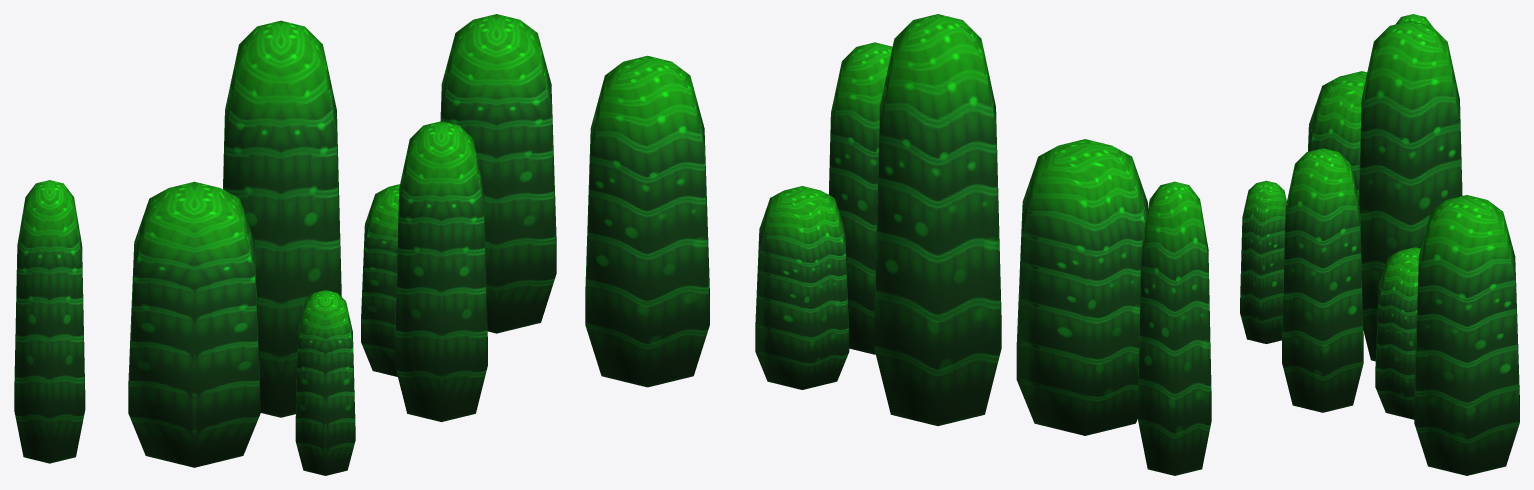
Rendered from Coral_15c.FBX.
The picture shows the model from 3 angles, left to right: view 1: azimuth 30°, elevation 25°; view 2: azimuth 150°, elevation 25°; view 3: azimuth 270°, elevation 25°; orthographic projection. The views are drawn at different scales.
Parts seen in each view (by area): view 1: Coral_15c; view 2: Coral_15c; view 3: Coral_15c.
Boxes of the visible parts, bbox=[...] form: Coral_15c: bbox=[14, 14, 556, 475]; Coral_15c: bbox=[585, 14, 1211, 475]; Coral_15c: bbox=[1240, 14, 1519, 475].
Size of the model in its own units: 47.53 by 29.48 by 22.86.
